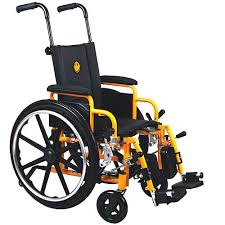wheelchair: (8, 18, 208, 213)
